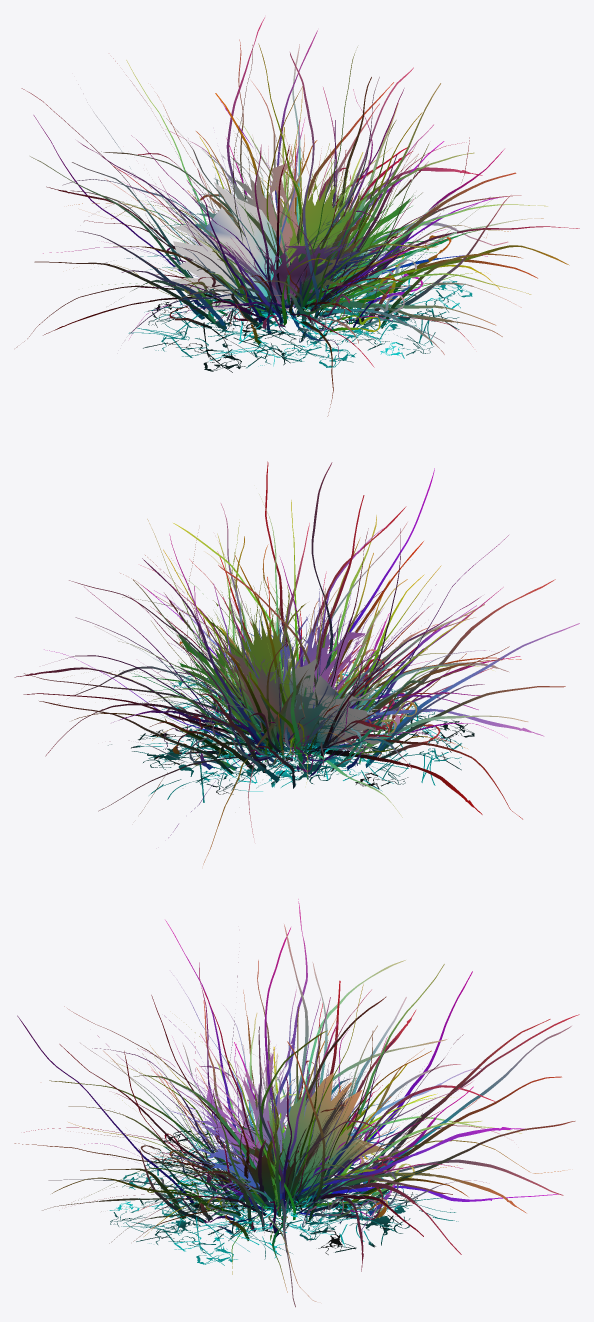
Rendered from Wild_Grass_vczndjqja_Raw_vczndjqja_VarE_LOD0.fbx.
3 renders of one model, top to bottom at view 1: azimuth 30°, elevation 25°; view 2: azimuth 150°, elevation 25°; view 3: azimuth 270°, elevation 25°, orthographic. The views are drawn at different scales.
Parts seen in each view (by area): view 1: _urzw_VarE_High; view 2: _urzw_VarE_High; view 3: _urzw_VarE_High.
Part boxes in pixels (x1=…): _urzw_VarE_High: x1=16, y1=17, x2=579, y2=416; _urzw_VarE_High: x1=14, y1=461, x2=579, y2=864; _urzw_VarE_High: x1=14, y1=899, x2=579, y2=1307.
Size of the model in its own units: 108 by 58.13 by 108.
